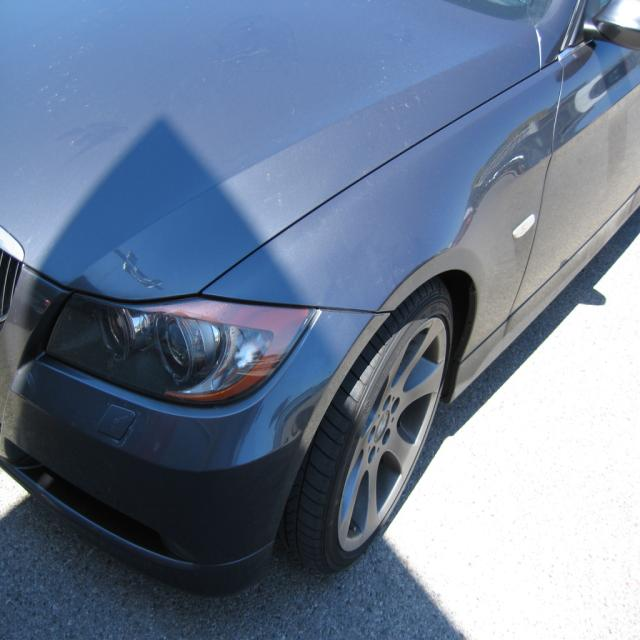car: (10, 51, 619, 596)
